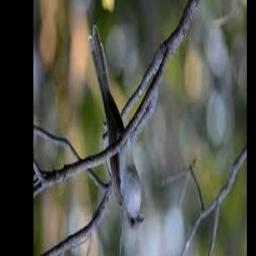Cuckoo: (88, 25, 144, 233)
